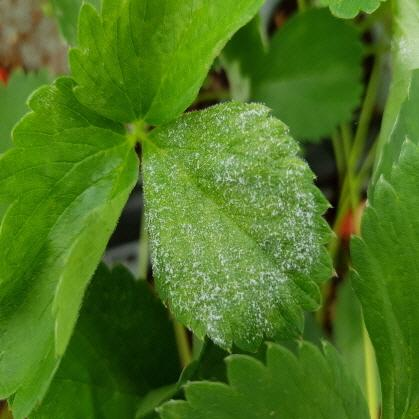Powdery Mildew Leaf: (141, 100, 337, 353), (366, 0, 418, 207)
